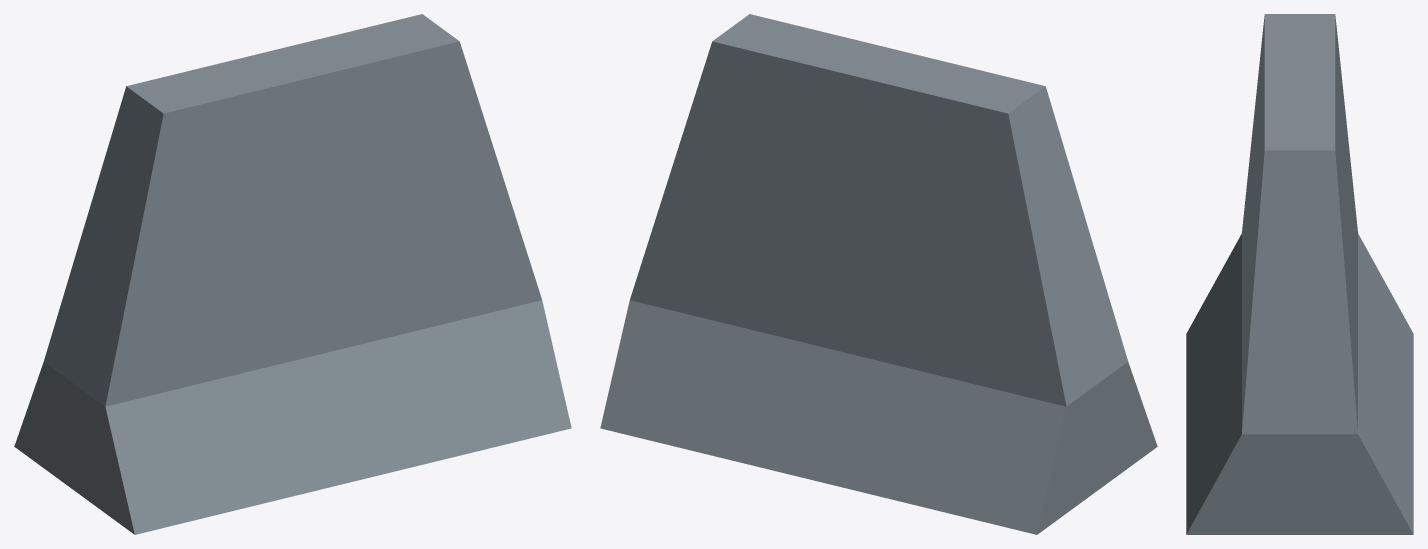
The model's file is SM_Prop_DJ_Turntable_02_Slider_01.obj.
3 views of the same model, side by side, from view 1: azimuth 30°, elevation 25°; view 2: azimuth 150°, elevation 25°; view 3: azimuth 270°, elevation 25° (orthographic). The views are drawn at different scales.
Visible parts, largest first — view 1: SM_Prop_DJ_Turntable_02_Slider_01_0; view 2: SM_Prop_DJ_Turntable_02_Slider_01_0; view 3: SM_Prop_DJ_Turntable_02_Slider_01_0.
Part boxes in pixels (x1,y1,x2,y2): SM_Prop_DJ_Turntable_02_Slider_01_0: (14,14,571,534); SM_Prop_DJ_Turntable_02_Slider_01_0: (600,14,1157,534); SM_Prop_DJ_Turntable_02_Slider_01_0: (1186,14,1413,534).
Size of the model in its own units: 0.0601 by 0.0491 by 0.0287.
1 material, 1 textured.
